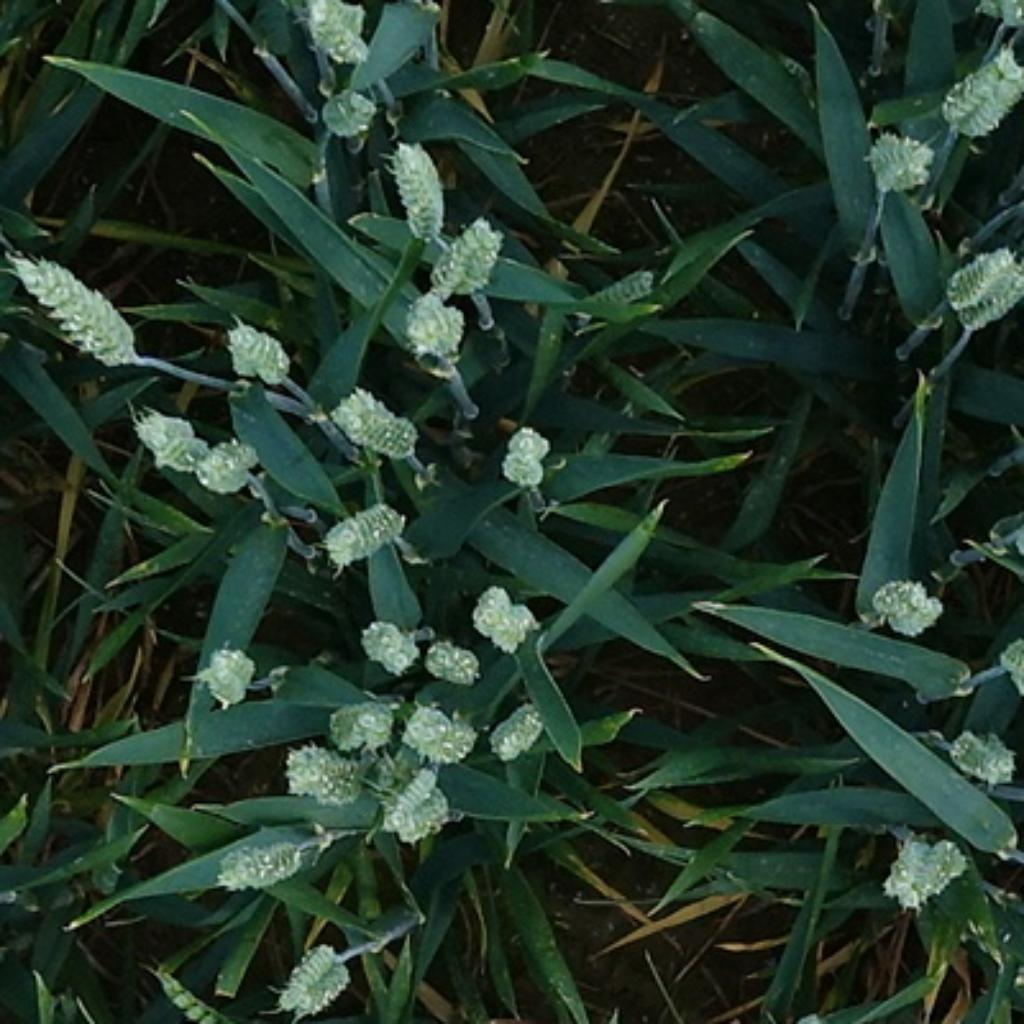0-0: (14, 254, 142, 368), (939, 43, 1024, 140), (878, 824, 970, 911), (309, 494, 412, 570), (122, 404, 217, 478), (430, 215, 514, 296), (945, 245, 1024, 330), (373, 762, 455, 842), (268, 942, 353, 1016), (328, 388, 415, 459), (387, 138, 448, 237), (276, 734, 360, 803), (294, 2, 371, 74), (181, 430, 263, 496), (401, 291, 471, 363), (396, 701, 478, 762), (192, 634, 261, 706), (223, 317, 294, 386), (471, 587, 542, 653), (217, 834, 302, 889), (870, 576, 947, 634), (325, 691, 396, 750), (949, 726, 1021, 783), (864, 132, 932, 190), (486, 701, 544, 765), (496, 424, 554, 486), (586, 265, 656, 316), (359, 613, 419, 670), (321, 86, 382, 141), (429, 643, 478, 683), (1018, 120, 1024, 217)
